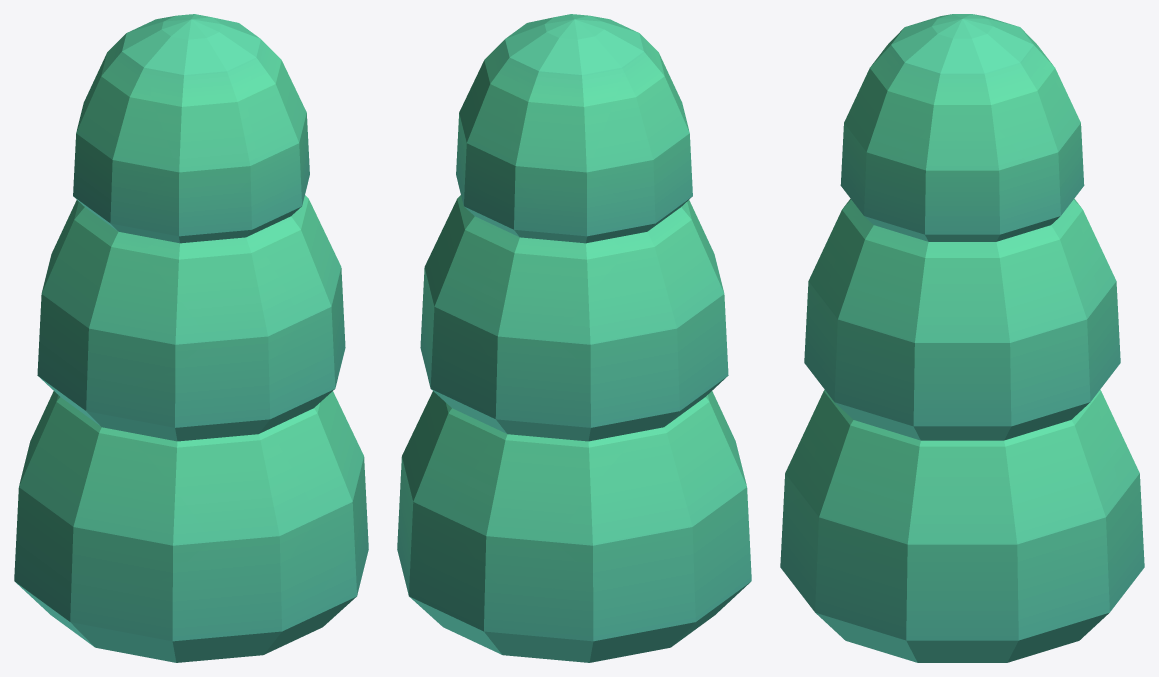
Rendered from bush_2.gltf.
3 renders of one model, left to right at view 1: azimuth 30°, elevation 25°; view 2: azimuth 150°, elevation 25°; view 3: azimuth 270°, elevation 25°, orthographic.
Parts seen in each view (by area): view 1: Object_28; view 2: Object_28; view 3: Object_28.
Part boxes in pixels (box(x1,y1,x2,y2)): Object_28: box(14, 14, 368, 662); Object_28: box(397, 14, 751, 662); Object_28: box(780, 14, 1144, 662).
Bounding box in the file's own units: 3.31 × 6.45 × 3.48.
1 material, 1 textured.
